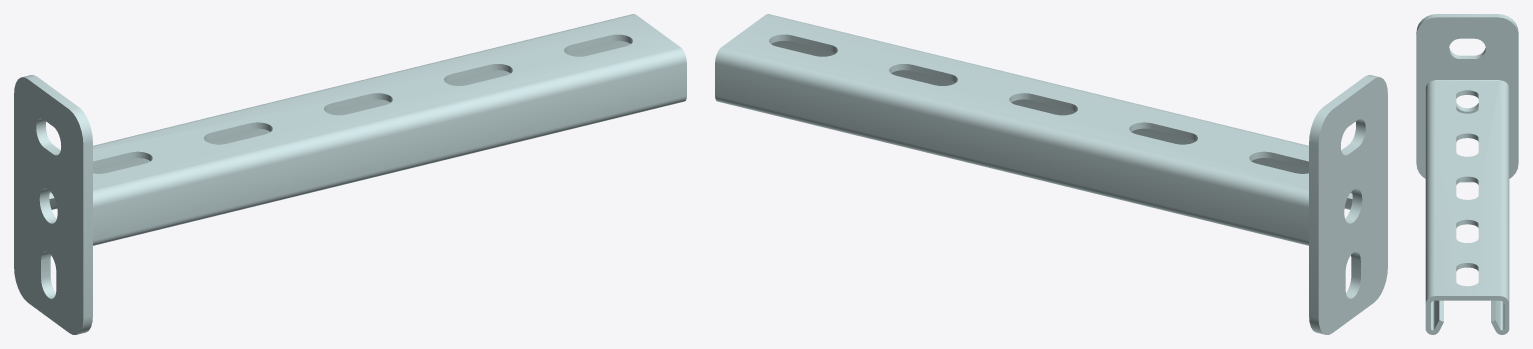
3 renders of one model, left to right at view 1: azimuth 30°, elevation 25°; view 2: azimuth 150°, elevation 25°; view 3: azimuth 270°, elevation 25°, orthographic. The views are drawn at different scales.
Visible parts, largest first — view 1: 21 250; view 2: 21 250; view 3: 21 250.
Part boxes in pixels (box(x1,y1,x2,y2)): 21 250: box(14, 14, 686, 334); 21 250: box(715, 14, 1387, 334); 21 250: box(1416, 14, 1518, 334).
Bounding box in the file's own units: 7.8 × 2.73 × 1.53.
